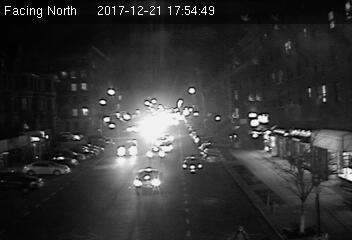car: (133, 167, 164, 194), (182, 155, 204, 175), (116, 142, 139, 156), (146, 145, 166, 161)
